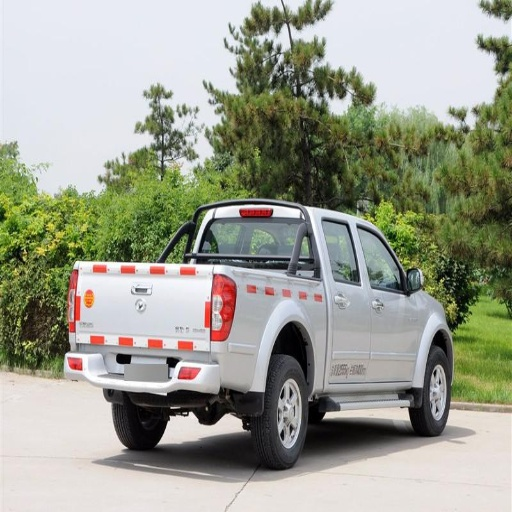back_bumper: (66, 335, 218, 400)
back_right_door: (314, 215, 370, 383)
trunk: (78, 259, 321, 393)
